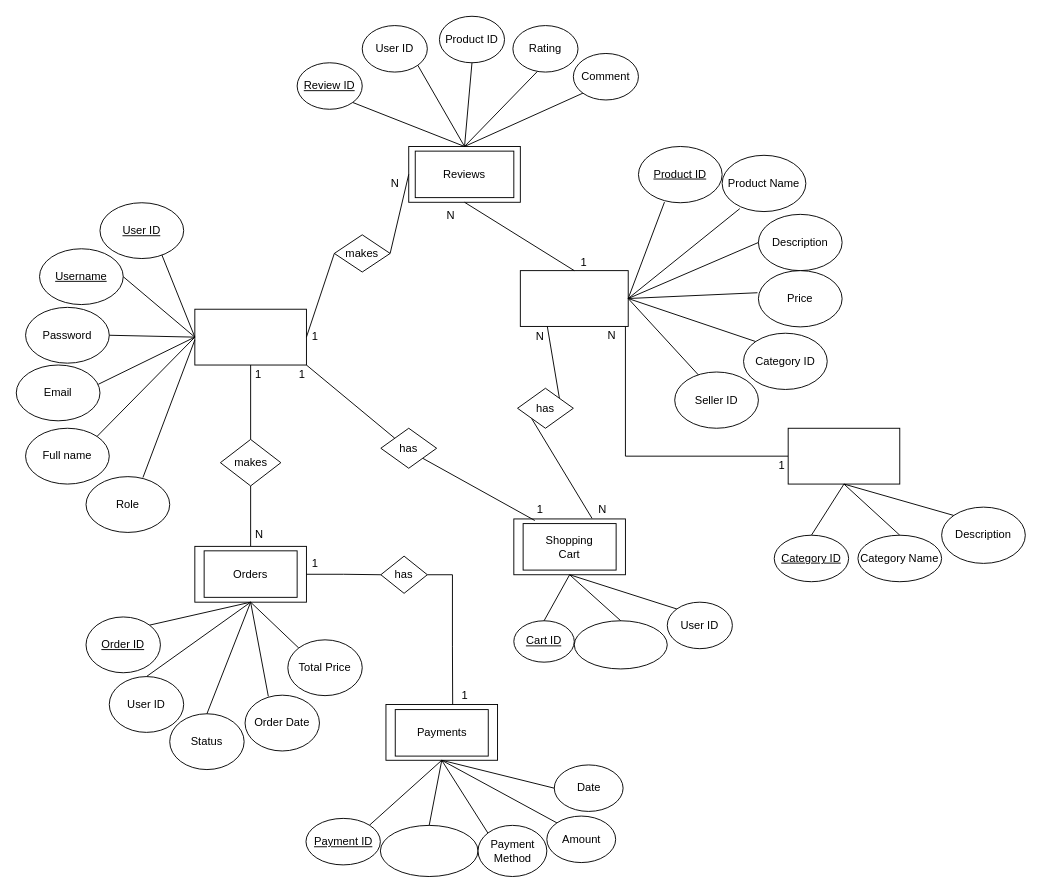
This 1042x893 diagram has some shape labels left out. The shapes that lost their labels are listed below. From the top down, each one's centre as x and y in pixels, then its label:
point (573, 298): Products
point (250, 336): User
point (843, 455): Categories
point (620, 644): Status (active, abandoned)
point (428, 850): Payment Method (card or cash)
